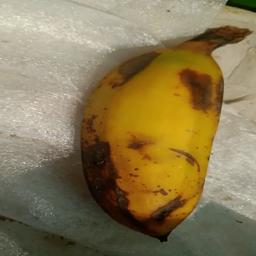Banana Semirotten: (73, 10, 253, 245)
